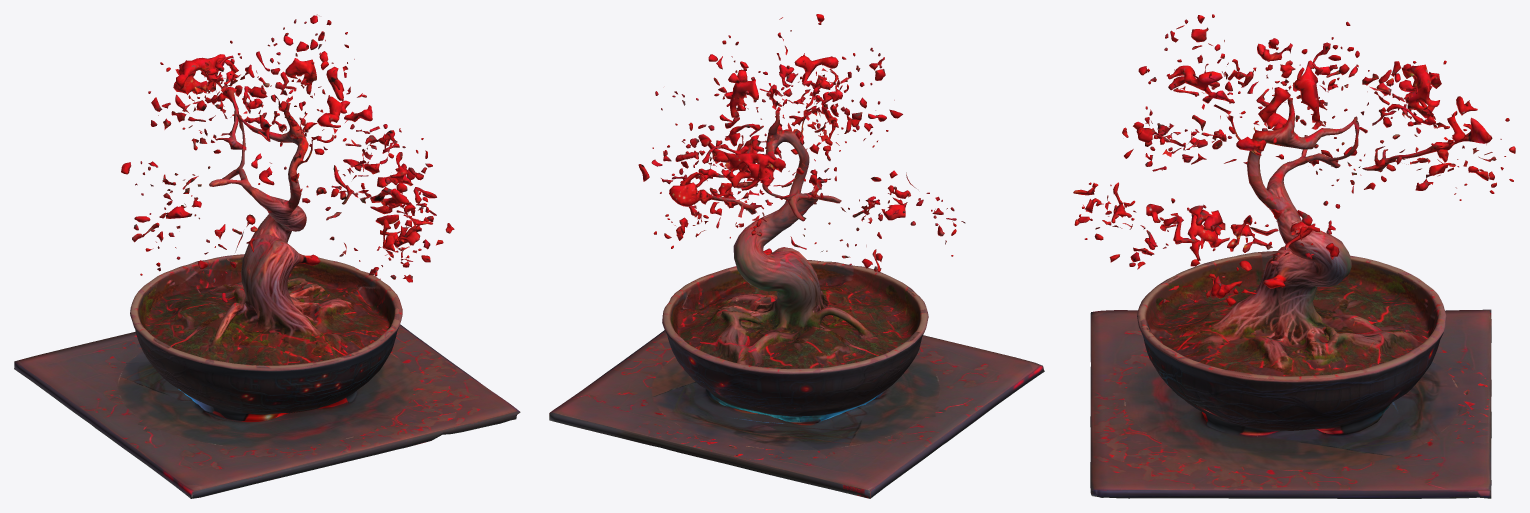
3 views of the same model, side by side, from view 1: azimuth 30°, elevation 25°; view 2: azimuth 150°, elevation 25°; view 3: azimuth 270°, elevation 25° (orthographic). The views are drawn at different scales.
Bounding box in the file's own units: 1.89 × 1.96 × 1.95.
Materials: 1 (1 with a texture image).
